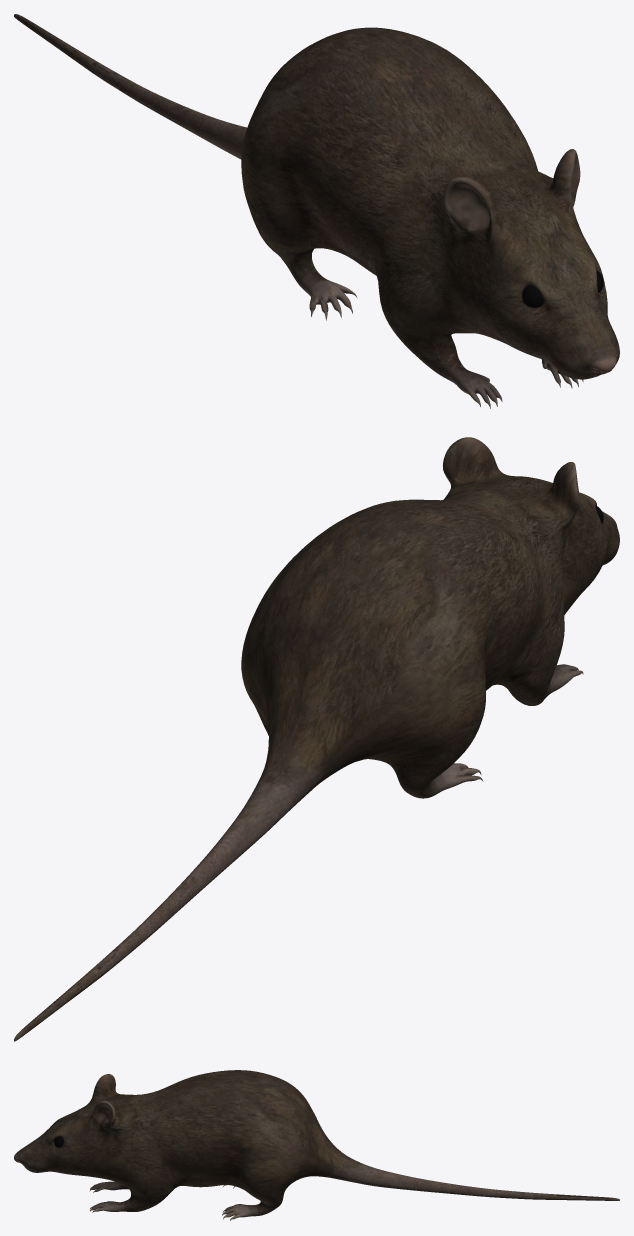
The model's file is street_rat.glb.
3 views of the same model, one above another, from view 1: azimuth 30°, elevation 25°; view 2: azimuth 150°, elevation 25°; view 3: azimuth 270°, elevation 25° (orthographic). The views are drawn at different scales.
Parts seen in each view (by area): view 1: street_rat; view 2: street_rat; view 3: street_rat.
Part boxes in pixels (x1,y1,x2,y2): street_rat: [14, 14, 619, 408]; street_rat: [14, 437, 619, 1041]; street_rat: [14, 1070, 619, 1220].
Bounding box in the file's own units: 0.032 × 0.0339 × 0.1483.
1 material, 1 textured.
